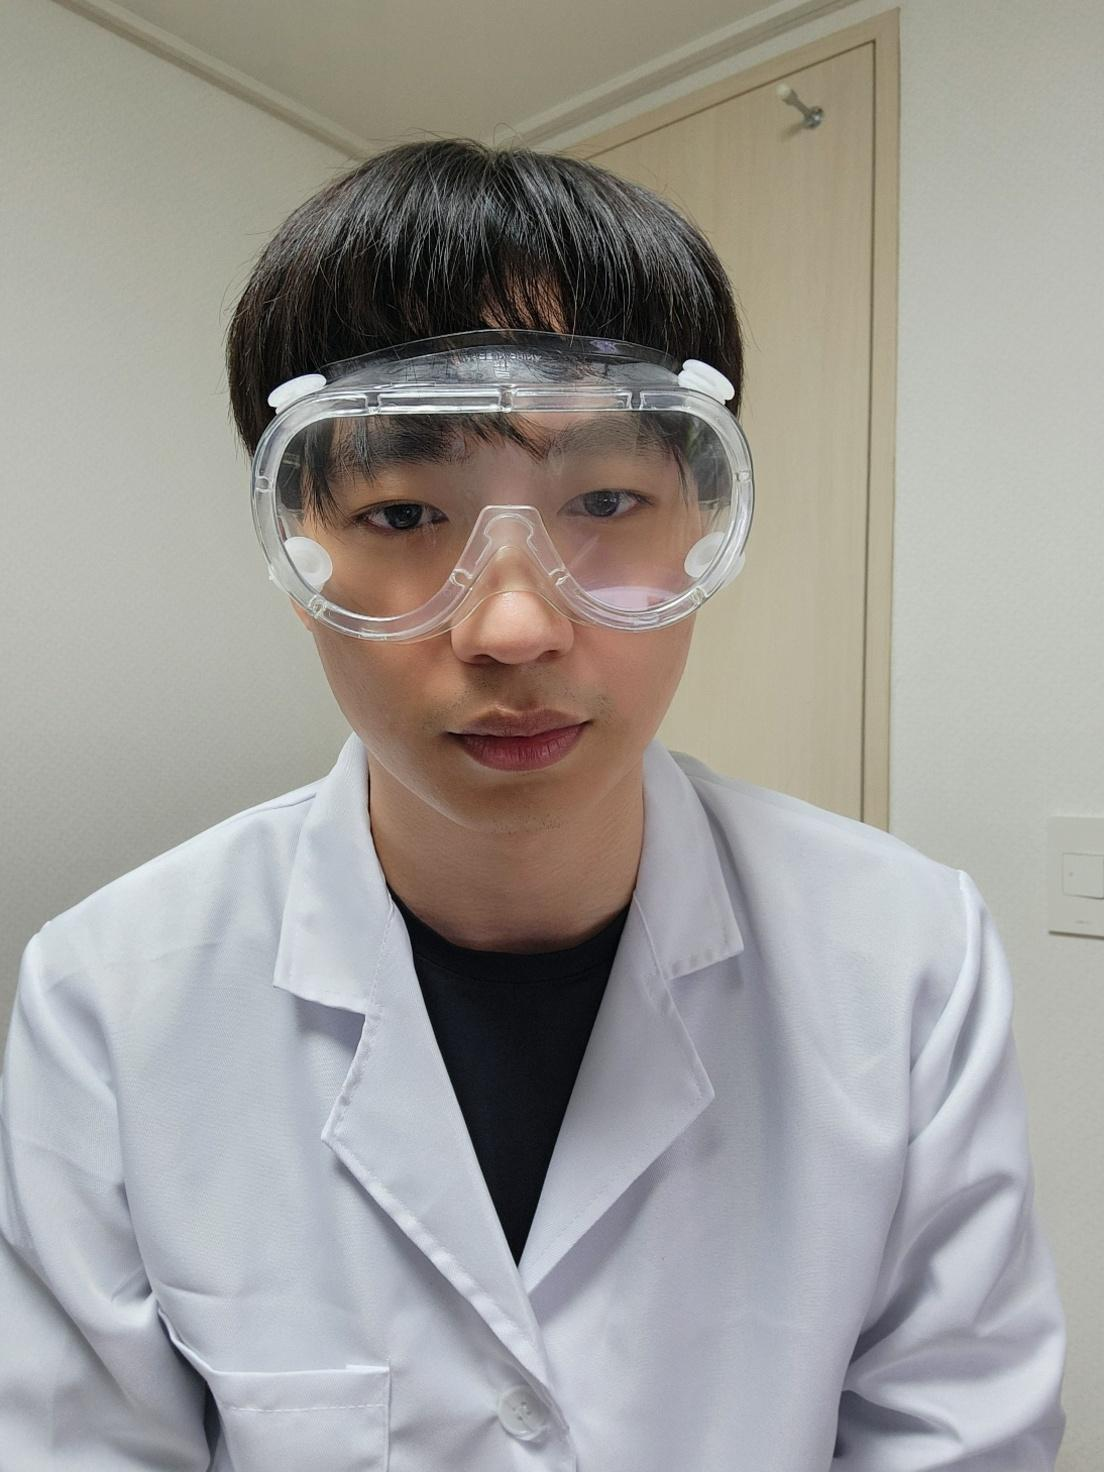lab_coat: (6, 738, 1063, 1471)
